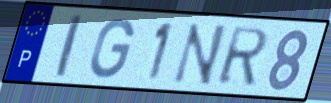1: (147, 21, 174, 83)
8: (267, 26, 311, 92)
G: (88, 17, 136, 81)
I: (54, 12, 85, 80)
N: (169, 21, 230, 87)
R: (215, 26, 271, 87)
